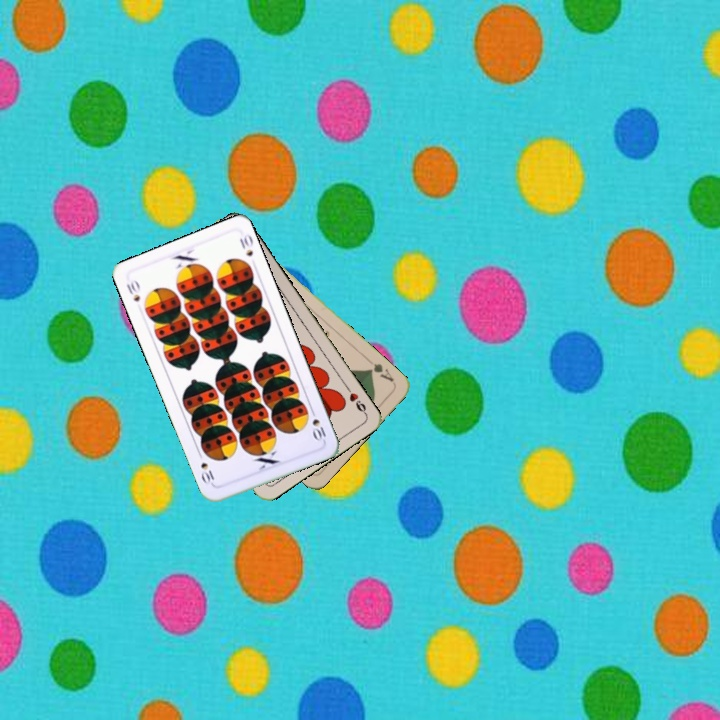GA: (363, 355, 397, 385)
H9: (341, 381, 369, 417)
S10: (307, 404, 329, 443), (122, 275, 143, 305)
